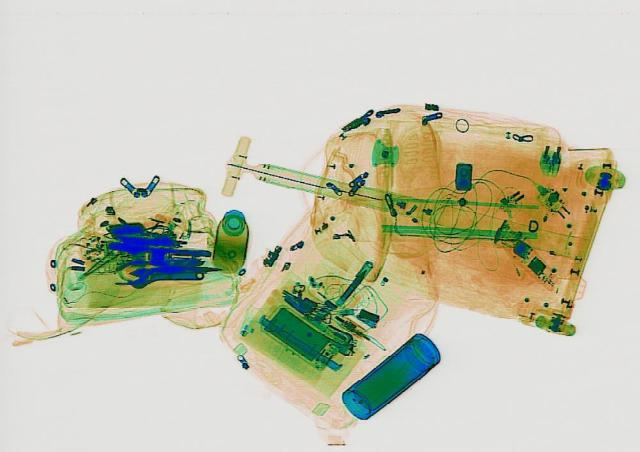Wrench: (128, 264, 204, 286)
